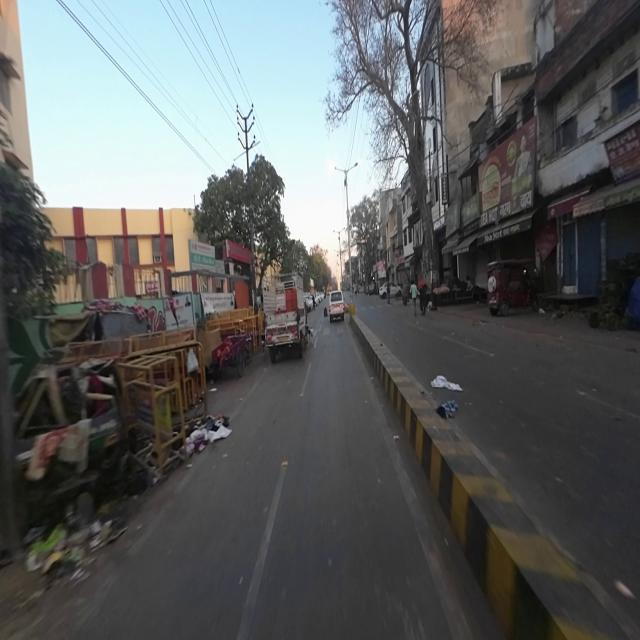Garbage: (25, 510, 108, 583), (184, 405, 231, 453)
